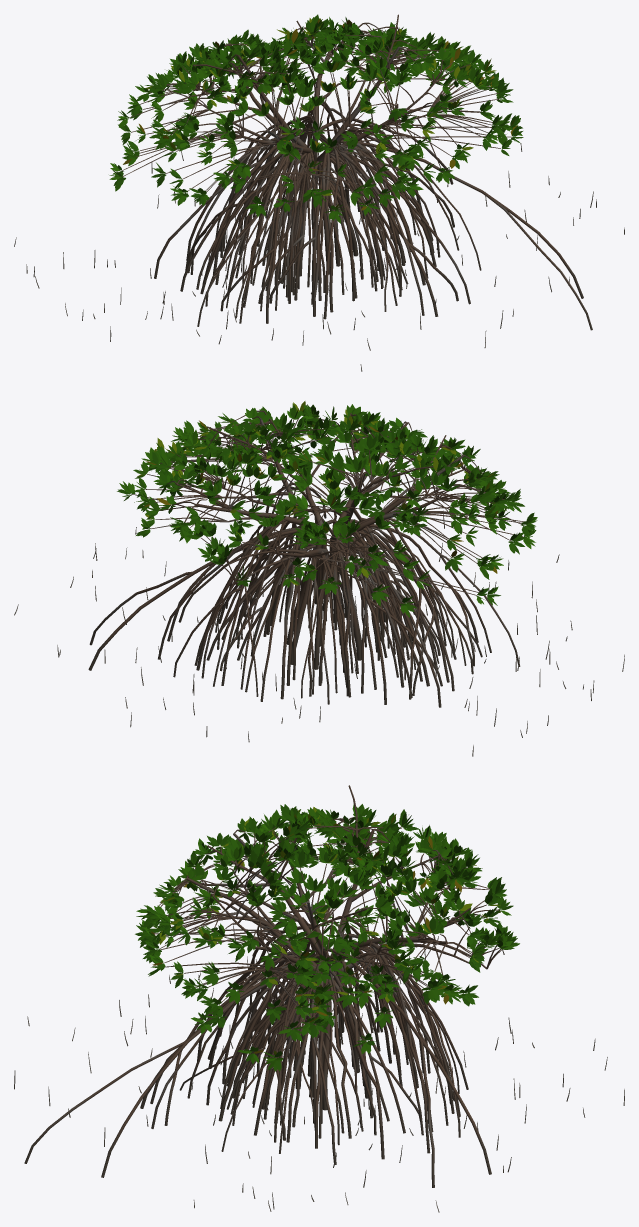
The model's file is RedMangrove_04_Wide.fbx.
3 renders of one model, top to bottom at view 1: azimuth 30°, elevation 25°; view 2: azimuth 150°, elevation 25°; view 3: azimuth 270°, elevation 25°, orthographic. The views are drawn at different scales.
Visible parts, largest first — view 1: RedMangrove_04_Wide_LOD0; view 2: RedMangrove_04_Wide_LOD0; view 3: RedMangrove_04_Wide_LOD0.
Part boxes in pixels (x1,y1,x2,y2): RedMangrove_04_Wide_LOD0: (14, 14, 624, 371); RedMangrove_04_Wide_LOD0: (14, 401, 624, 756); RedMangrove_04_Wide_LOD0: (14, 785, 624, 1212).
Size of what is drawn, in the model's own units: 8.27 by 3.44 by 7.75.
